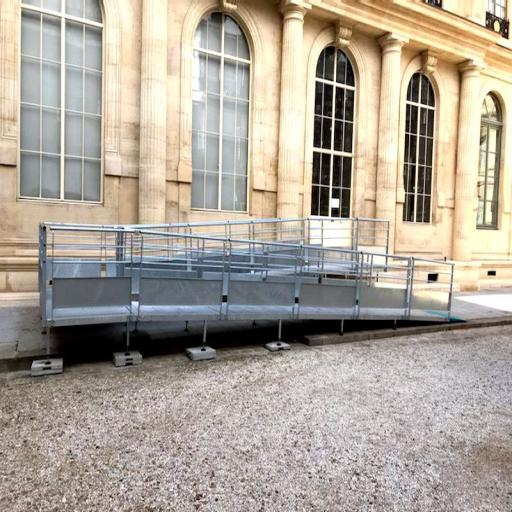entrance: (32, 208, 456, 353)
